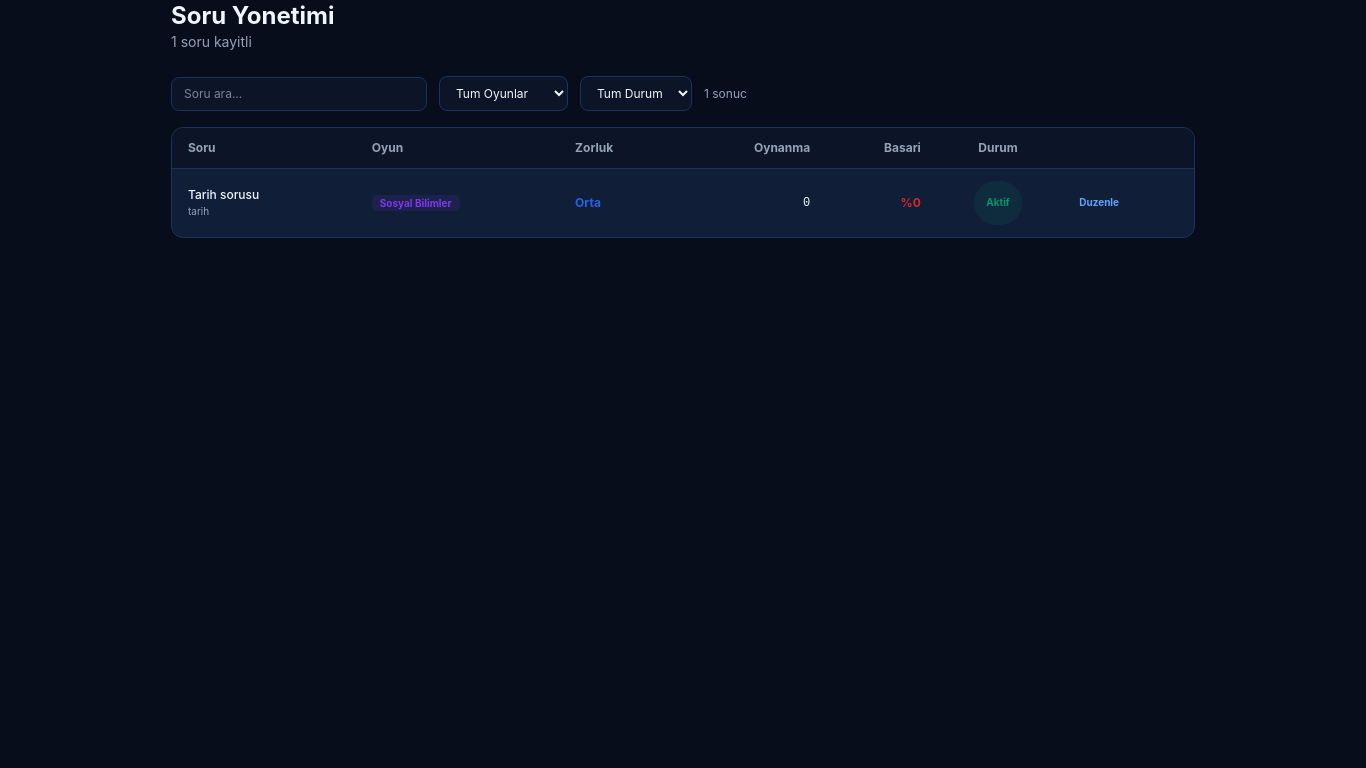
AdminQuestionsPage legacy outcome repair › stores a correction as a mapping-pending draft when the catalog has no candidate
Click the button "Duzenle" at coordinates (1099, 203), box [1071,181,1127,225]
(page scrolled)
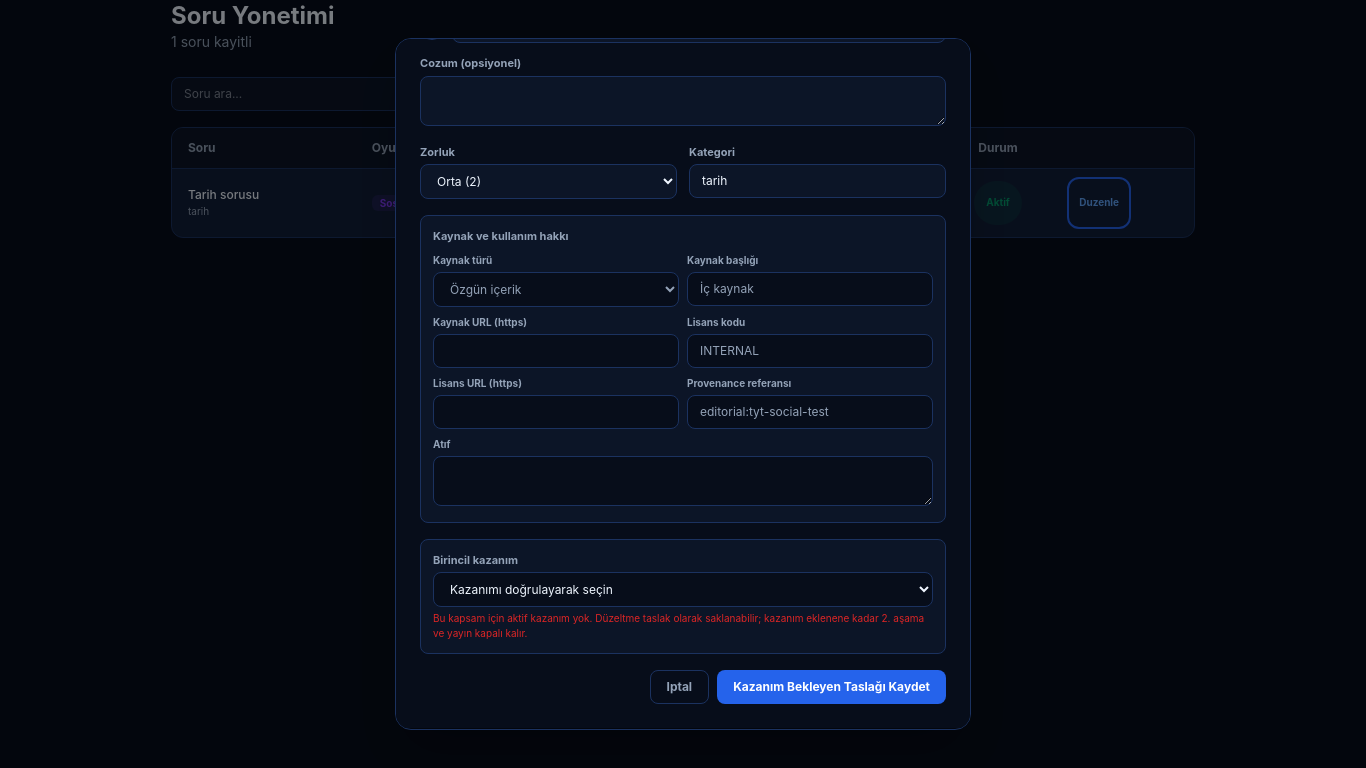
Expected: the button "Kazanım Bekleyen Taslağı Kaydet" is enabled
Click the button "Kazanım Bekleyen Taslağı Kaydet" at coordinates (832, 687), box [717,670,946,704]
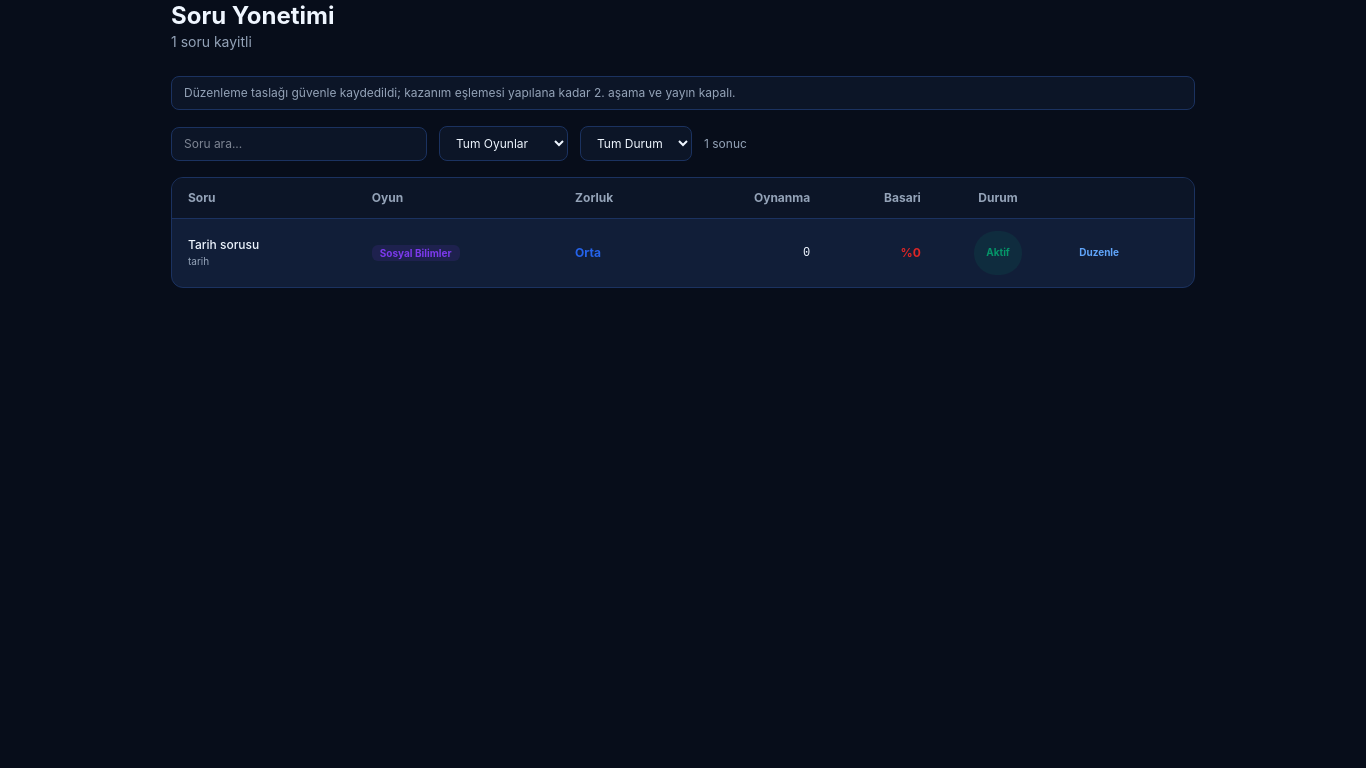
Expected: the text "kazanım eşlemesi yapılana kadar 2. aşama ve yayın kapalı" is shown, [184,85,736,100]
